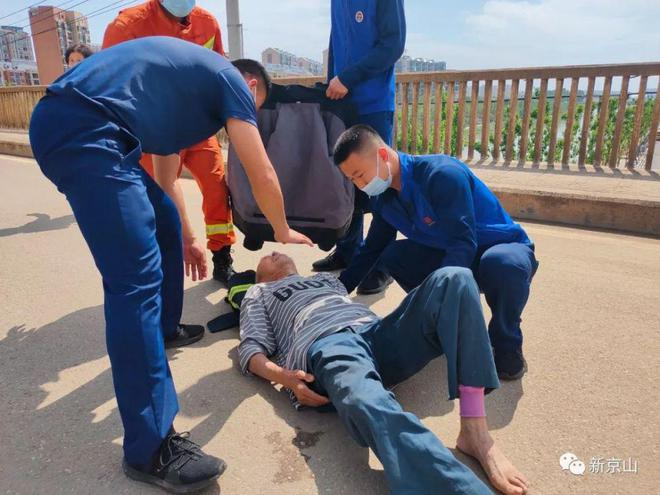falling: (245, 242, 500, 488)
sitting: (348, 138, 556, 355)
standing: (65, 33, 271, 489), (319, 8, 415, 158)
